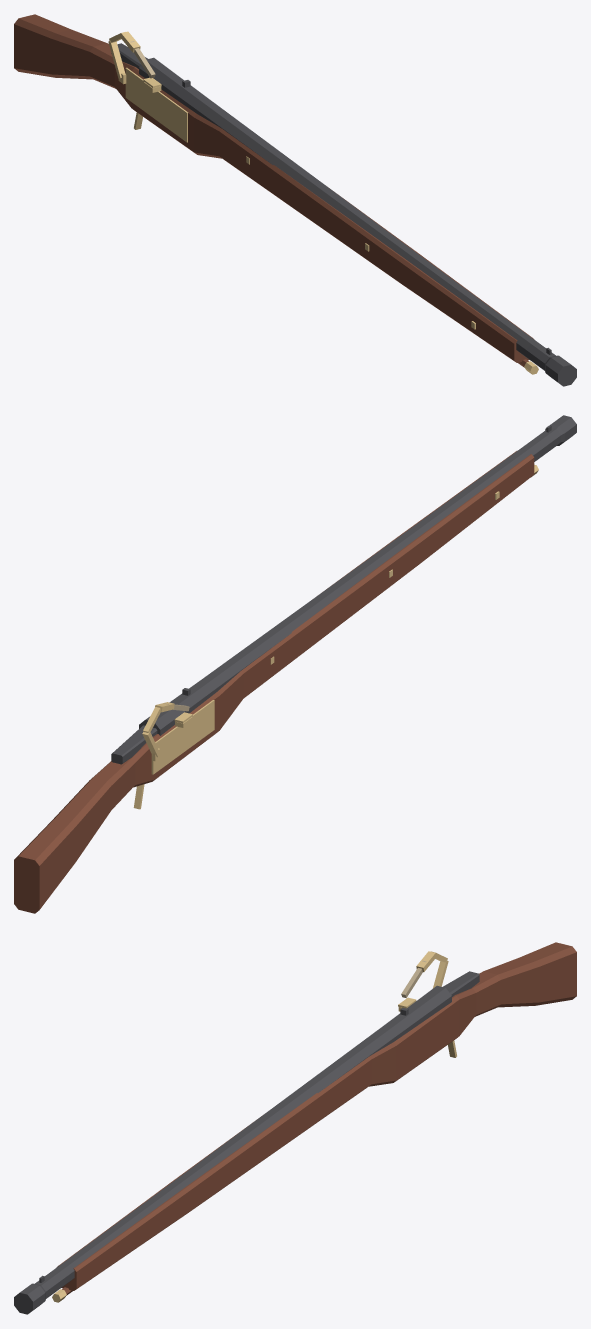
Rendered from Matchlock.fbx.
3 renders of one model, top to bottom at view 1: azimuth 30°, elevation 25°; view 2: azimuth 150°, elevation 25°; view 3: azimuth 330°, elevation 25°, orthographic.
Parts seen in each view (by area): view 1: Matchlock; view 2: Matchlock; view 3: Matchlock.
Boxes of the visible parts, x1,y1,x2,y2 form: Matchlock: [14, 14, 576, 386]; Matchlock: [14, 415, 576, 913]; Matchlock: [14, 942, 576, 1314].
Bounding box in the file's own units: 0.047 × 0.1694 × 1.32.
